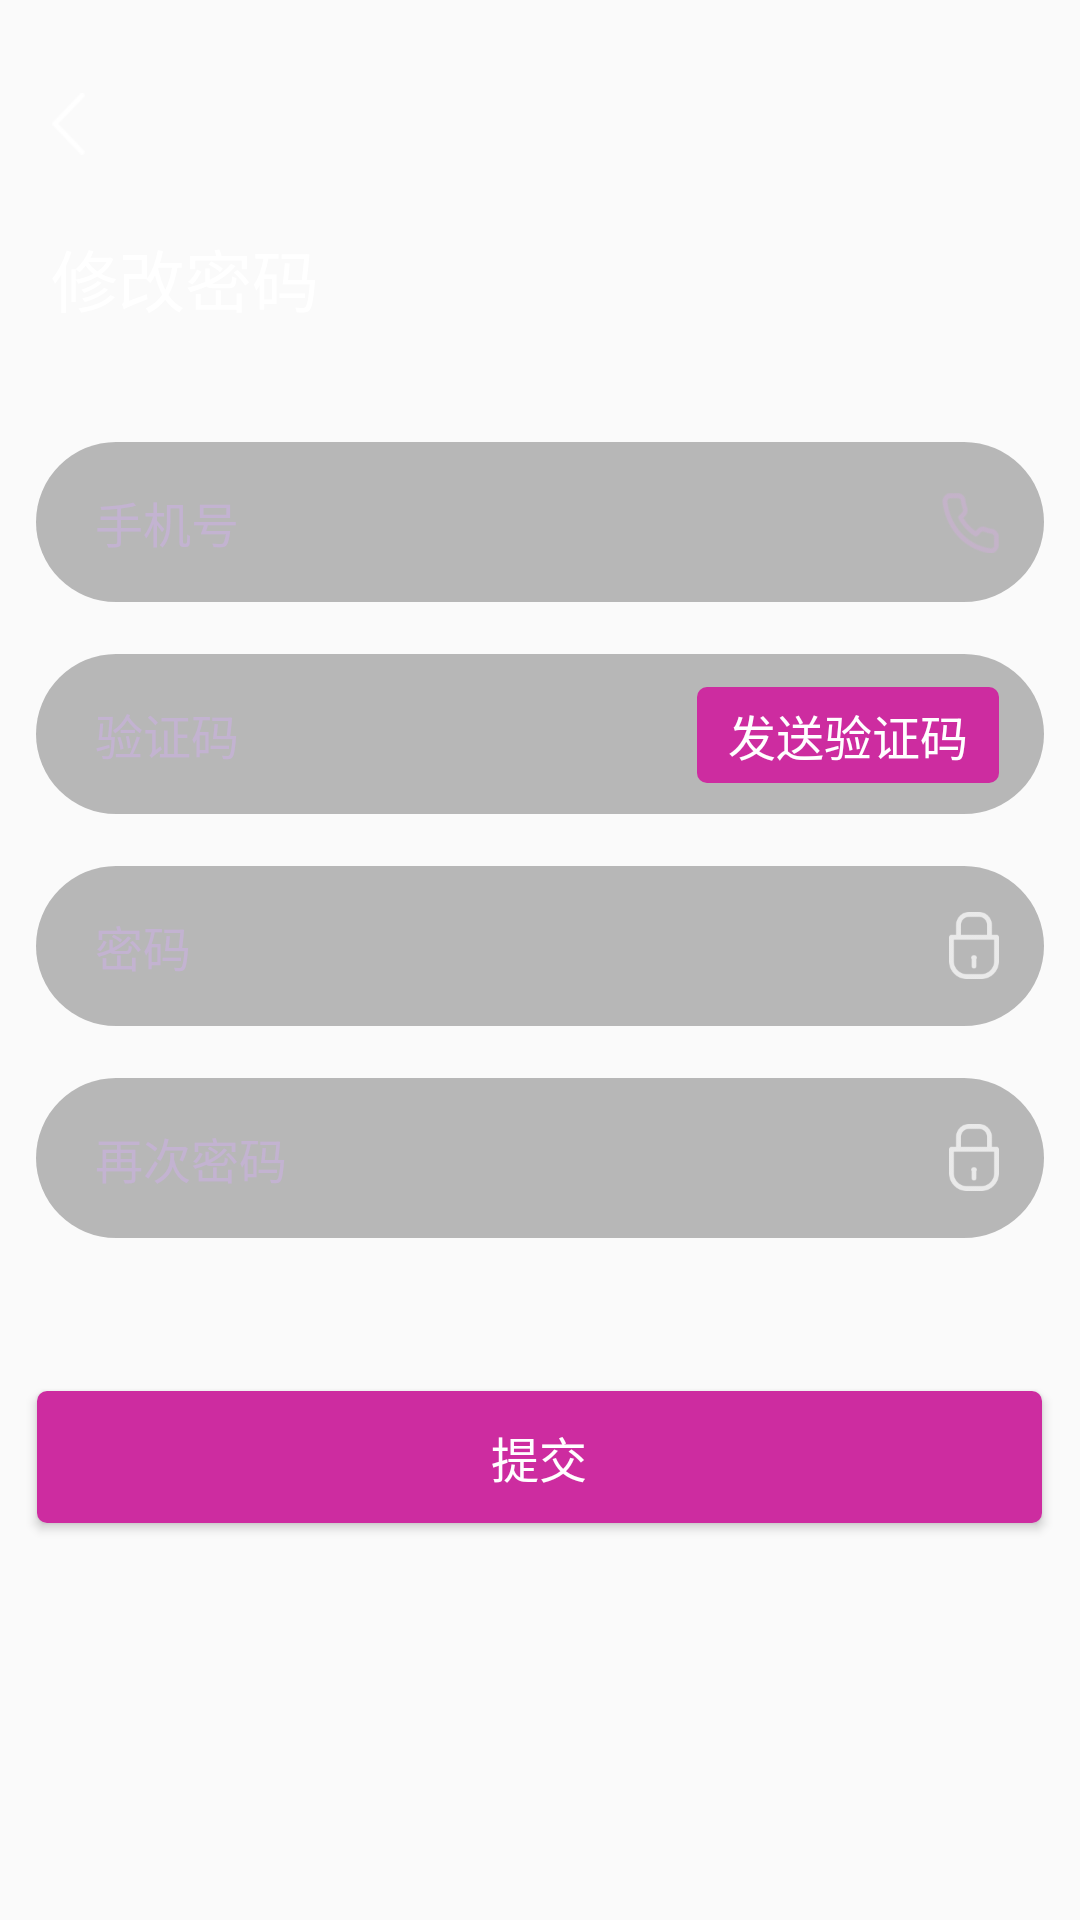

Point at icon controls on the screen. Image size 1080x1920, points as [x,y].
login password: [974,945], [974,1157]
